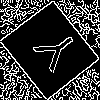Y: (24, 25, 83, 79)
